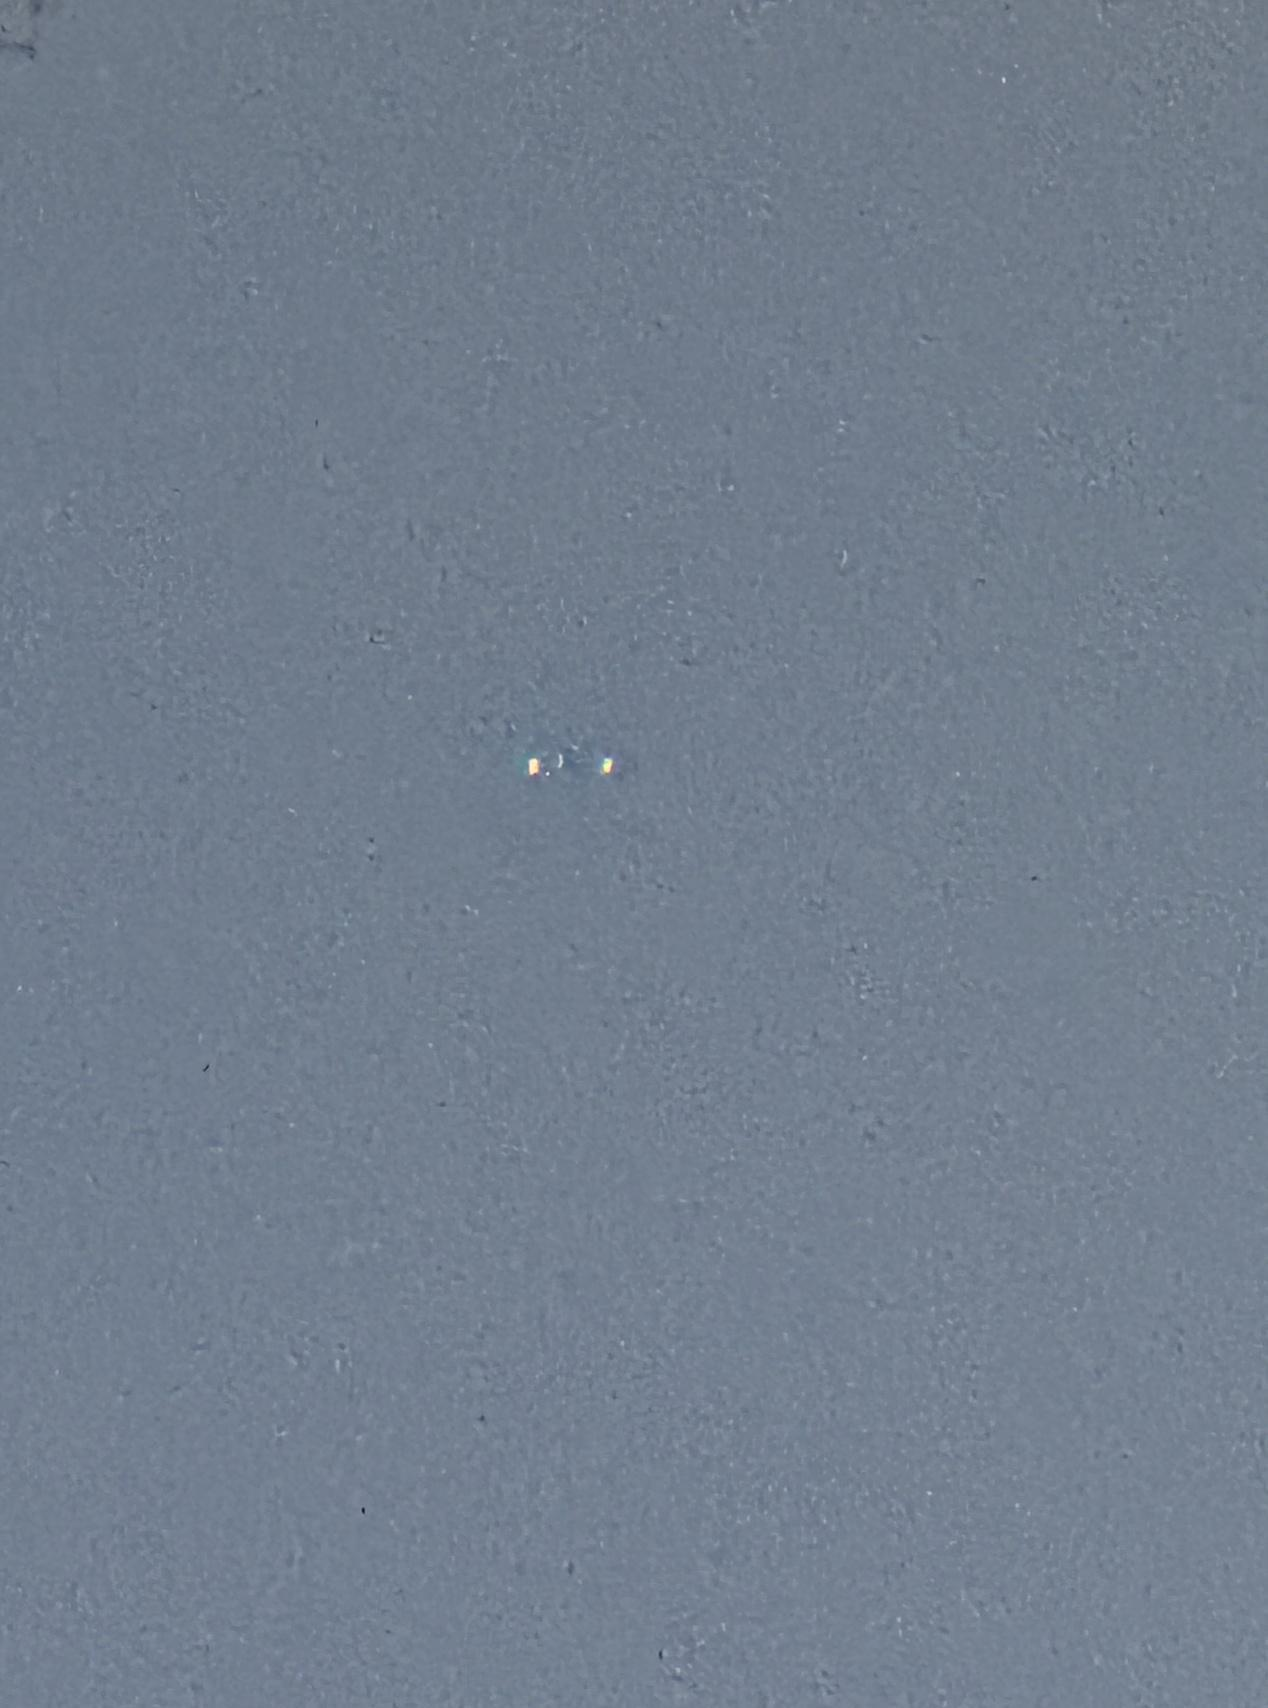Plane: (483, 723, 677, 781)
